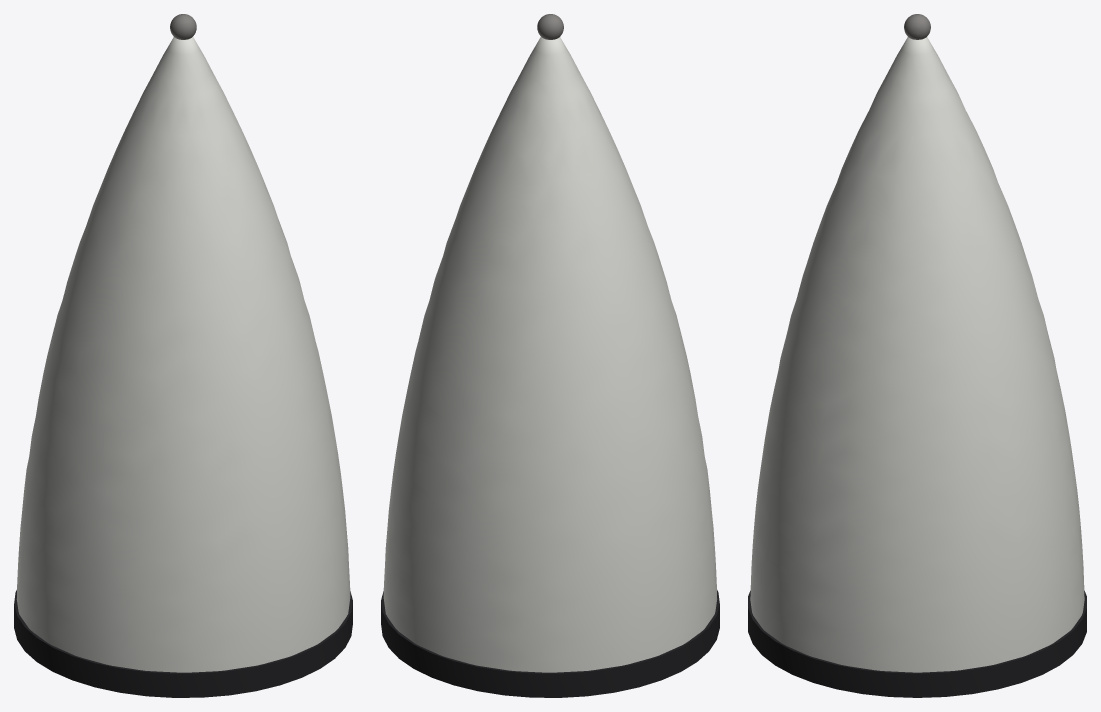
File: stage13_nose_cone_ogive_xs.glb
3 renders of one model, left to right at view 1: azimuth 30°, elevation 25°; view 2: azimuth 150°, elevation 25°; view 3: azimuth 270°, elevation 25°, orthographic.
Visible parts, largest first — view 1: cone, base_ring, tip; view 2: cone, base_ring, tip; view 3: cone, base_ring, tip.
Boxes of the visible parts, left/top/right/bottom form: cone: left=16, top=37, right=350, bottom=672; base_ring: left=14, top=590, right=352, bottom=697; tip: left=170, top=14, right=196, bottom=39; cone: left=383, top=37, right=717, bottom=672; base_ring: left=381, top=590, right=719, bottom=697; tip: left=537, top=14, right=563, bottom=39; cone: left=750, top=37, right=1084, bottom=672; base_ring: left=748, top=590, right=1086, bottom=697; tip: left=904, top=14, right=930, bottom=39.
Bounding box in the file's own units: 0.6328 × 1.26 × 0.6329.
Materials: 3 (1 with a texture image).
